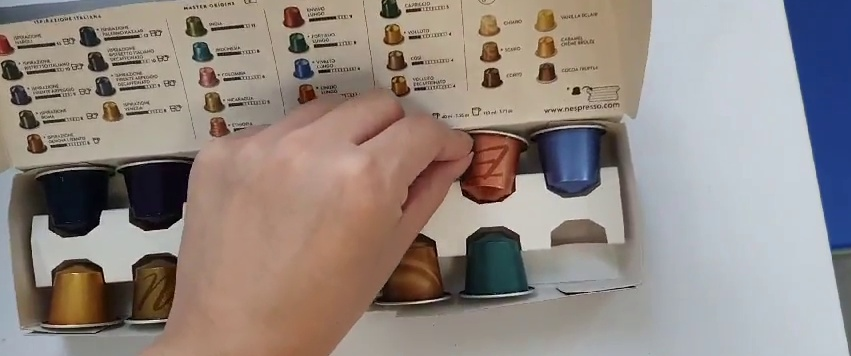capsule_6: (451, 128, 529, 201)
